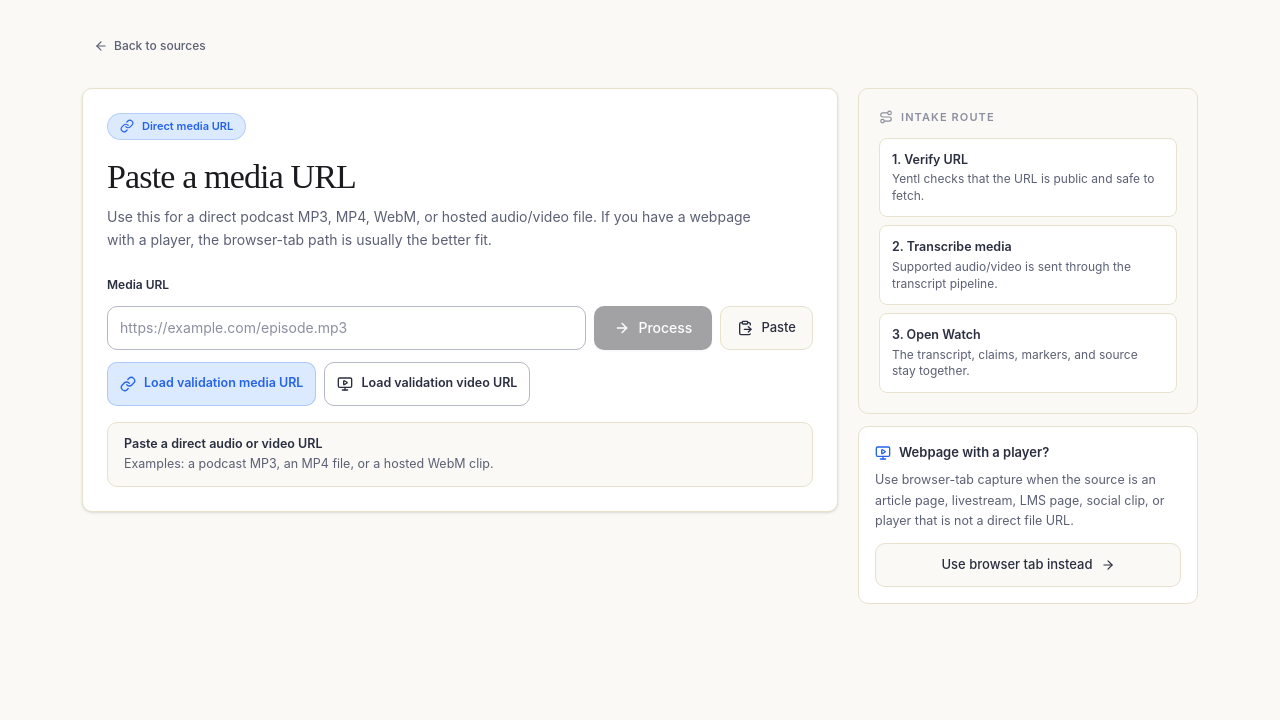
Test: MediaUrlIngestPane — Process button disabled state › pastes the first copied URL into the media URL field
Click the button with aria-label "Paste media URL from clipboard" at (767, 328), box [720, 306, 813, 350]
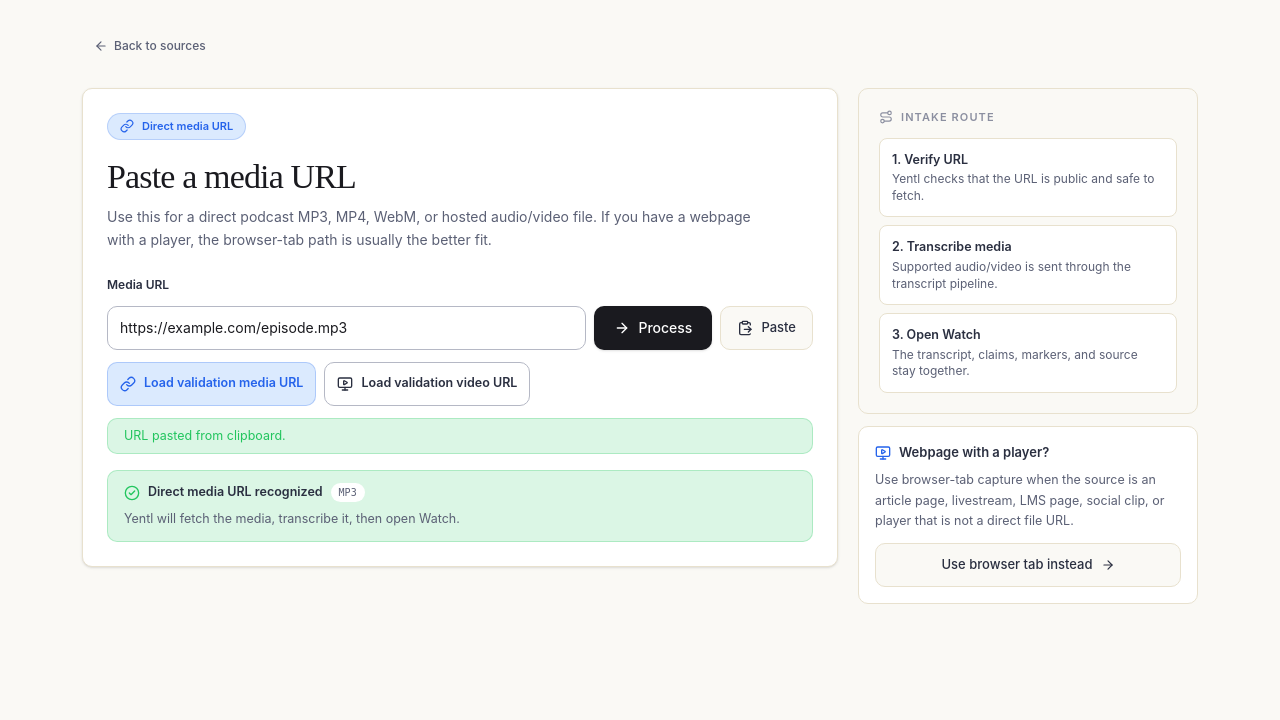
Expected: the field labelled "Media URL" holds "https://example.com/episode.mp3", [107, 306, 586, 350]
Expected: the text "URL pasted from clipboard." is shown, [107, 418, 813, 454]
Expected: the button "Process" is enabled, [594, 306, 712, 350]
